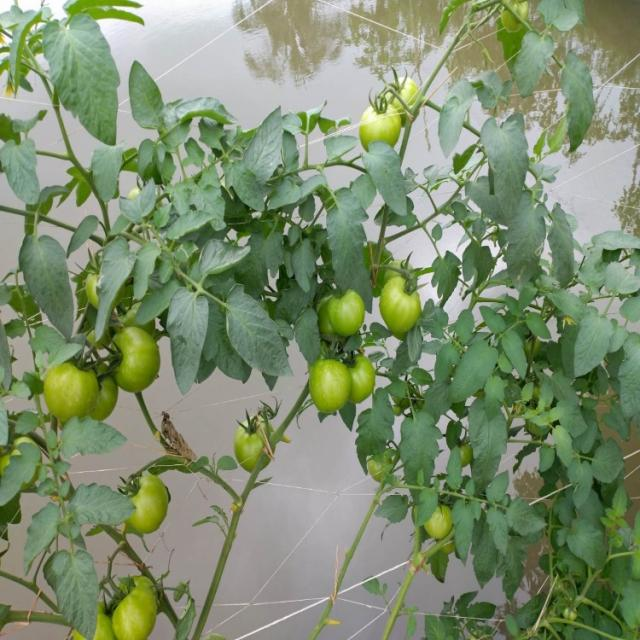tomato: (94, 574, 159, 640), (41, 358, 107, 421), (111, 324, 167, 390), (229, 407, 280, 472), (376, 272, 421, 341), (124, 472, 173, 531), (319, 282, 366, 339), (365, 102, 404, 151), (316, 356, 346, 416), (352, 354, 379, 408), (423, 505, 457, 541), (2, 436, 35, 468), (389, 76, 421, 103), (83, 263, 102, 306), (369, 460, 398, 486), (457, 440, 474, 472), (127, 183, 147, 199)
